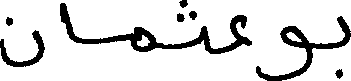ا: (58, 1, 76, 43)
ب: (334, 13, 348, 79)
ث: (172, 0, 207, 53)
ع: (228, 13, 250, 51)
م: (130, 24, 156, 51)
ن: (0, 15, 45, 68)
و: (256, 23, 311, 78)
